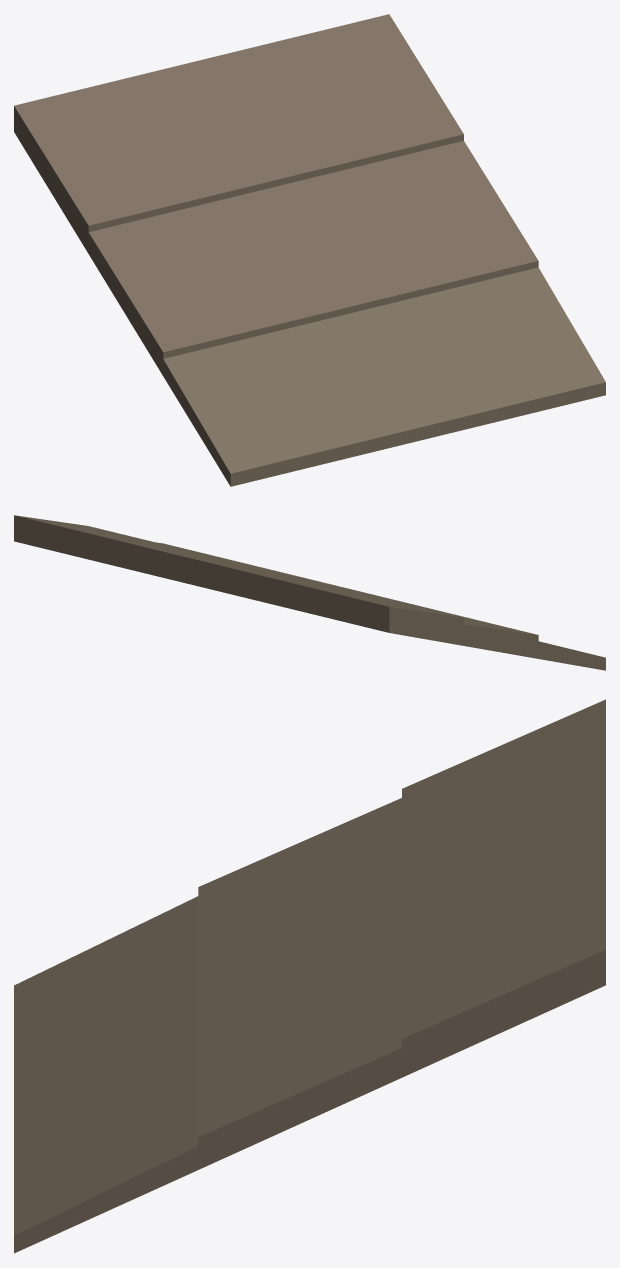
The model's file is steampunk_roof_metal.fbx.
3 views of the same model, one above another, from view 1: azimuth 30°, elevation 25°; view 2: azimuth 150°, elevation 25°; view 3: azimuth 270°, elevation 25° (orthographic). The views are drawn at different scales.
Visible parts, largest first — view 1: Cube.048; view 2: Cube.048; view 3: Cube.048.
Part boxes in pixels (bbox=[...]): Cube.048: bbox=[14, 14, 605, 486]; Cube.048: bbox=[14, 515, 605, 670]; Cube.048: bbox=[14, 699, 605, 1253].
Bounding box in the file's own units: 3 × 1.7 × 3.
